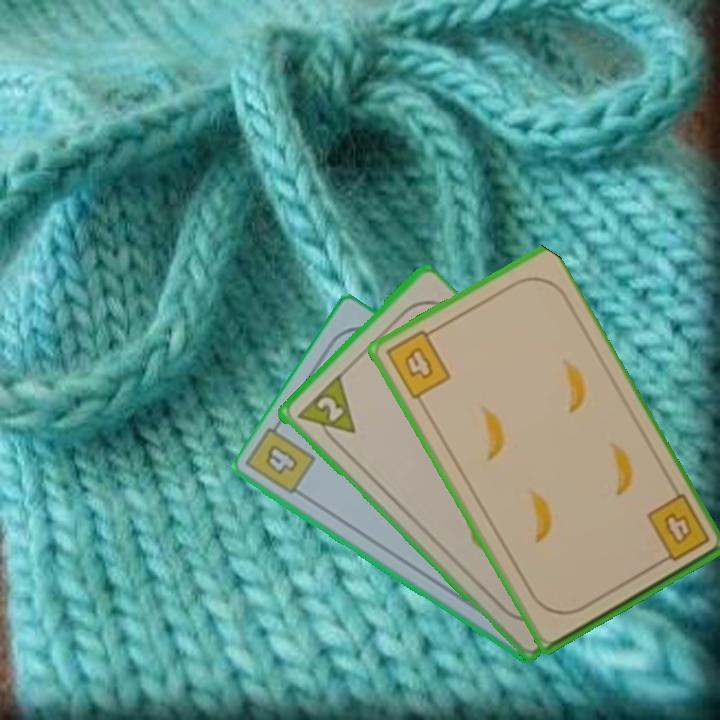2p: (292, 372, 359, 451)
4b: (381, 324, 454, 402), (642, 491, 713, 569), (261, 441, 301, 478)
